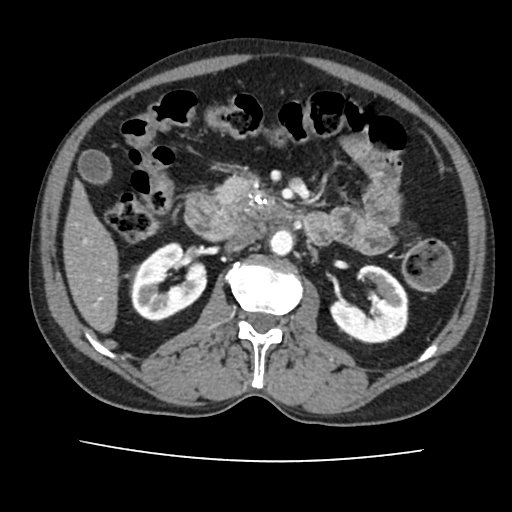aorta: (269, 228, 294, 256)
